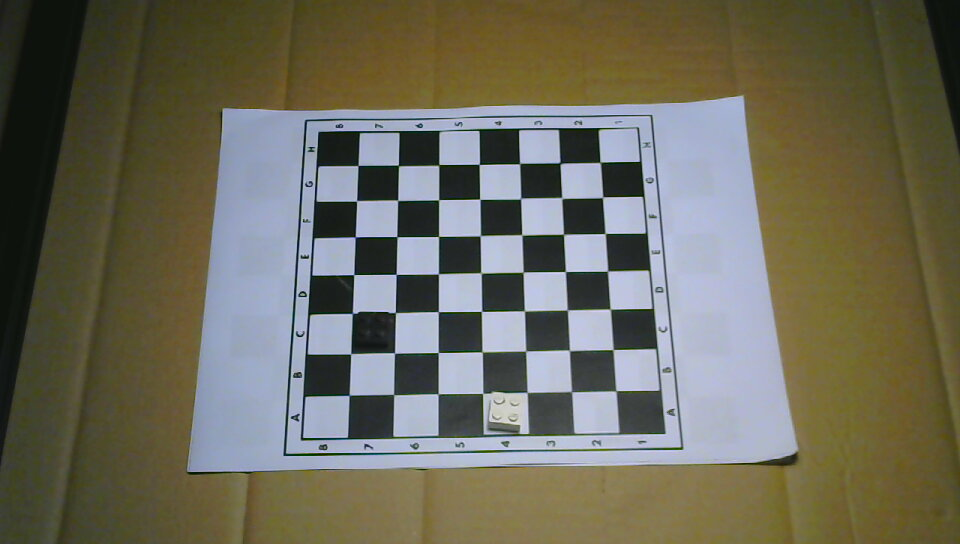bp: (355, 312, 390, 351)
wp: (486, 390, 524, 432)
